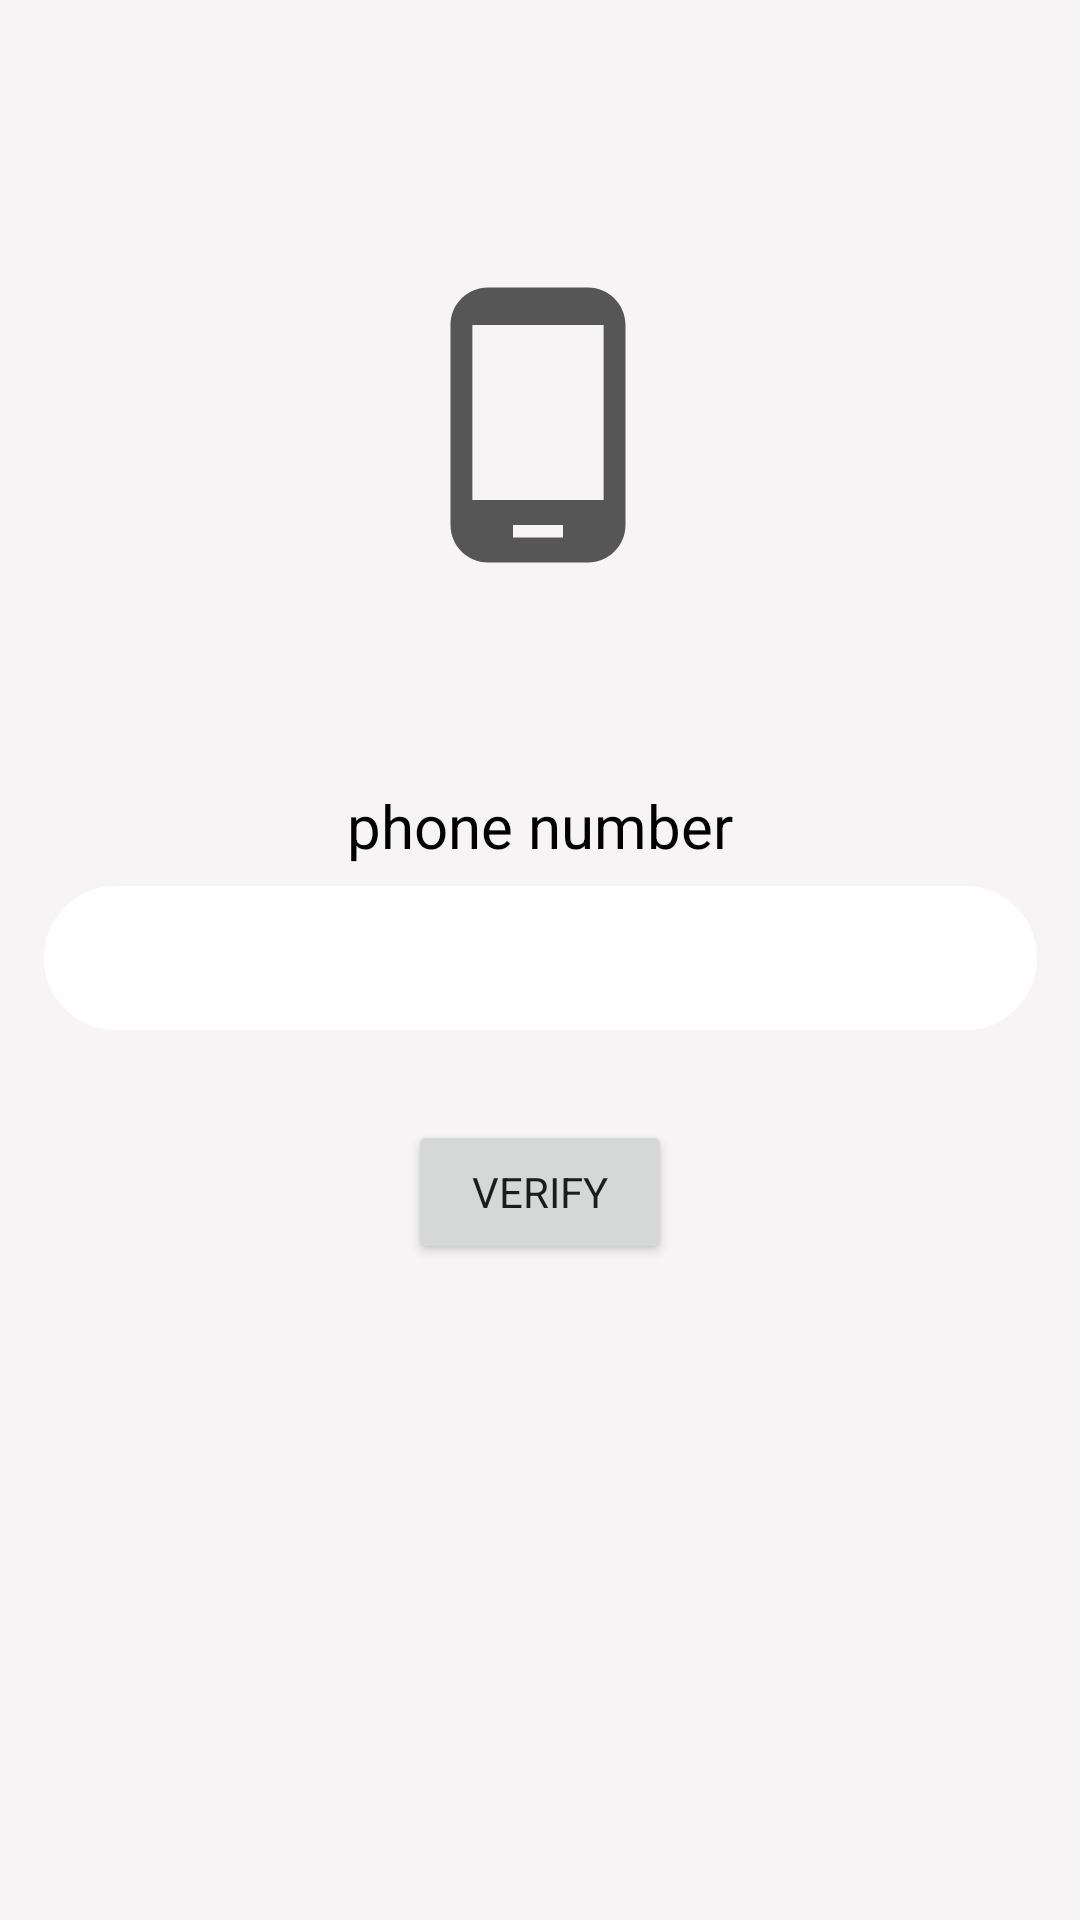

Icons on this 1080×1920 Android screen, each with its box as [x1, y1, x2, y2]:
phone android: [450, 287, 626, 563]
